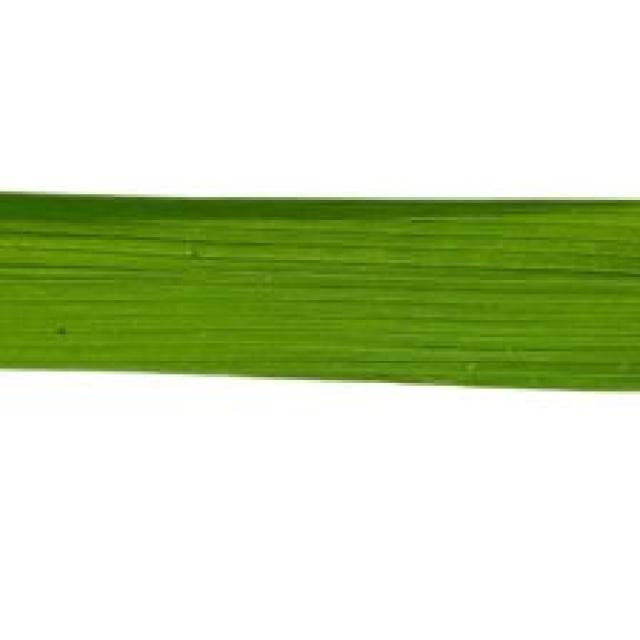Rice___Healthy_Rice_Plant: (0, 190, 637, 396)
